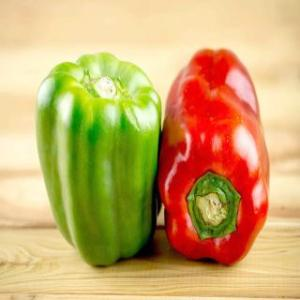bell_pepper: (35, 49, 163, 266), (159, 46, 271, 268)
